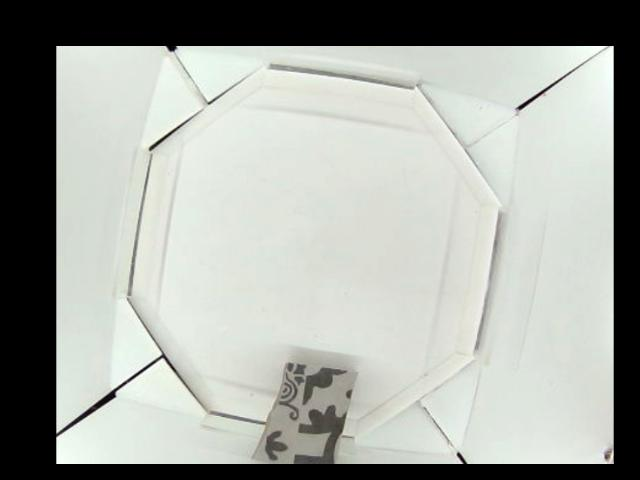China: (245, 362, 356, 463)
